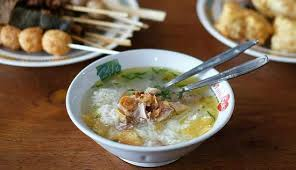soto: (73, 51, 251, 161)
